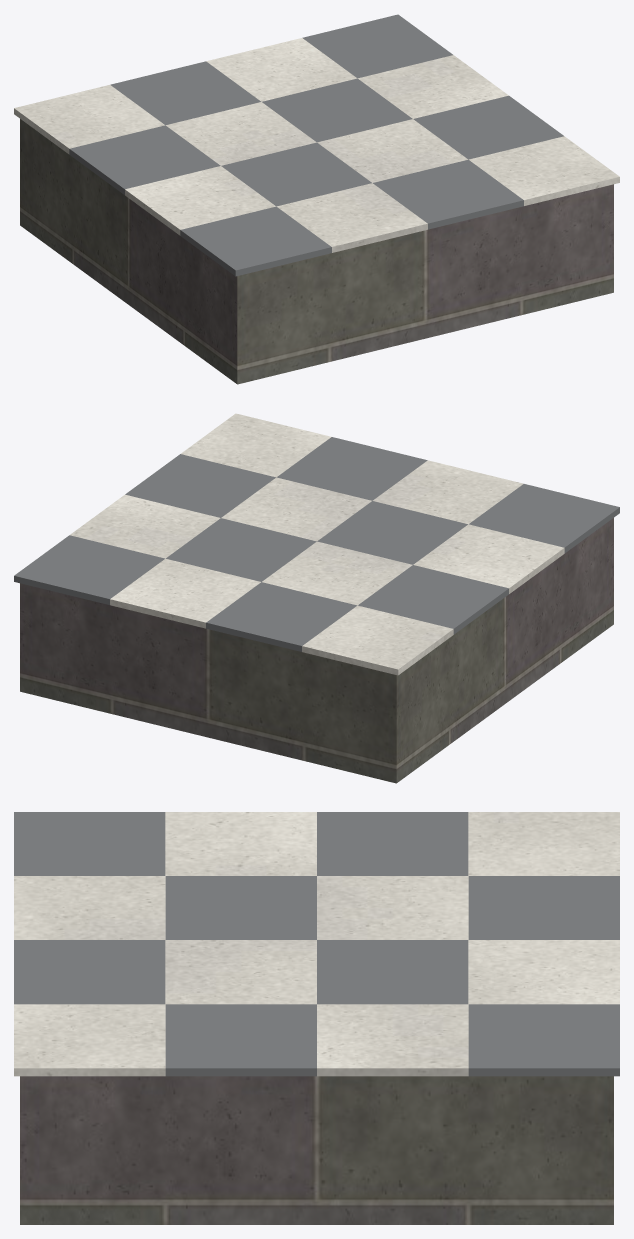
Rendered from floor_marble_g.glb.
The picture shows the model from 3 angles, top to bottom: view 1: azimuth 30°, elevation 25°; view 2: azimuth 150°, elevation 25°; view 3: azimuth 270°, elevation 25°; orthographic projection. The views are drawn at different scales.
Visible parts, largest first — view 1: floor_marble_g_plinth, floor_marble_g_slate, floor_marble_g_marble; view 2: floor_marble_g_plinth, floor_marble_g_marble, floor_marble_g_slate; view 3: floor_marble_g_plinth, floor_marble_g_marble, floor_marble_g_slate.
Boxes of the visible parts, bbox=[...] form: floor_marble_g_plinth: bbox=[20, 119, 613, 384]; floor_marble_g_slate: bbox=[69, 14, 563, 276]; floor_marble_g_marble: bbox=[14, 38, 619, 252]; floor_marble_g_plinth: bbox=[20, 518, 613, 783]; floor_marble_g_marble: bbox=[70, 413, 564, 675]; floor_marble_g_slate: bbox=[14, 437, 619, 651]; floor_marble_g_plinth: bbox=[20, 1076, 613, 1224]; floor_marble_g_marble: bbox=[14, 812, 619, 1076]; floor_marble_g_slate: bbox=[14, 812, 619, 1076].
Size of the model in its own units: 2 by 0.58 by 2.
Materials: 3 (2 with a texture image).
